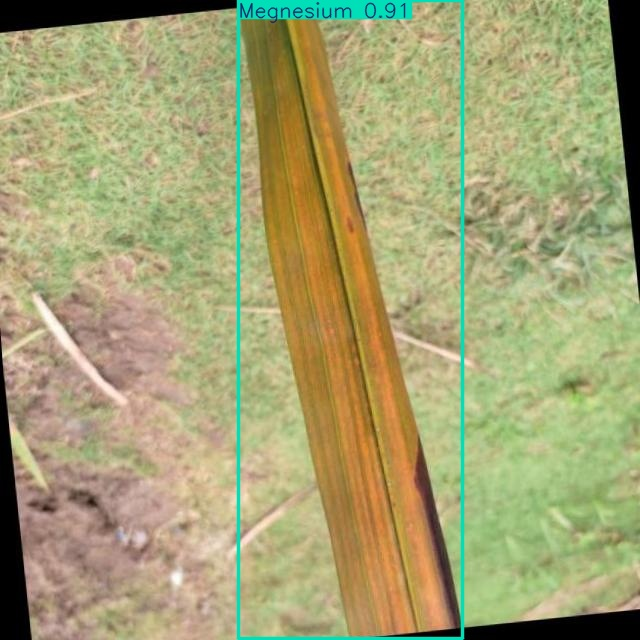Megnesium: (239, 1, 462, 638)
